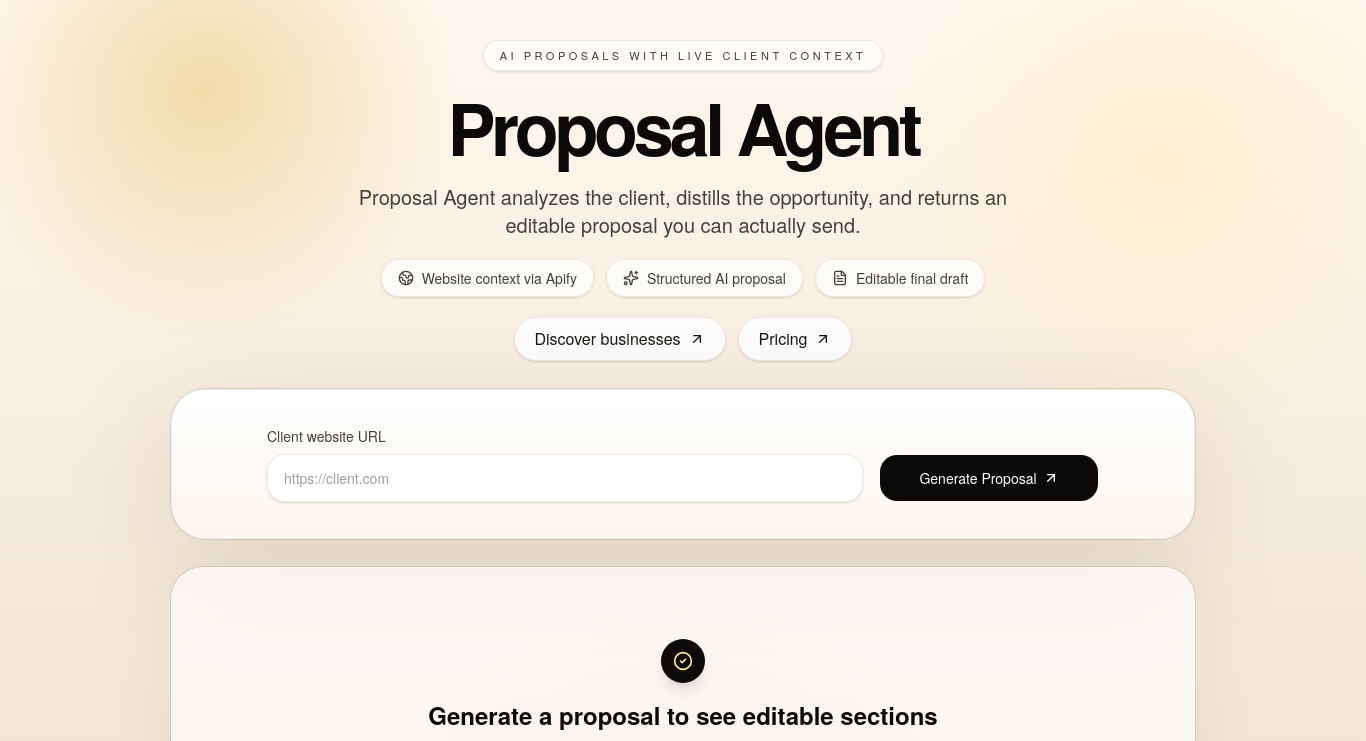
Test: ProposalAgent › shows a validation message when inputs are empty
This screenshot has width=1366, height=741.
Click the button "Generate Proposal" at (989, 478), box [879,454,1099,502]
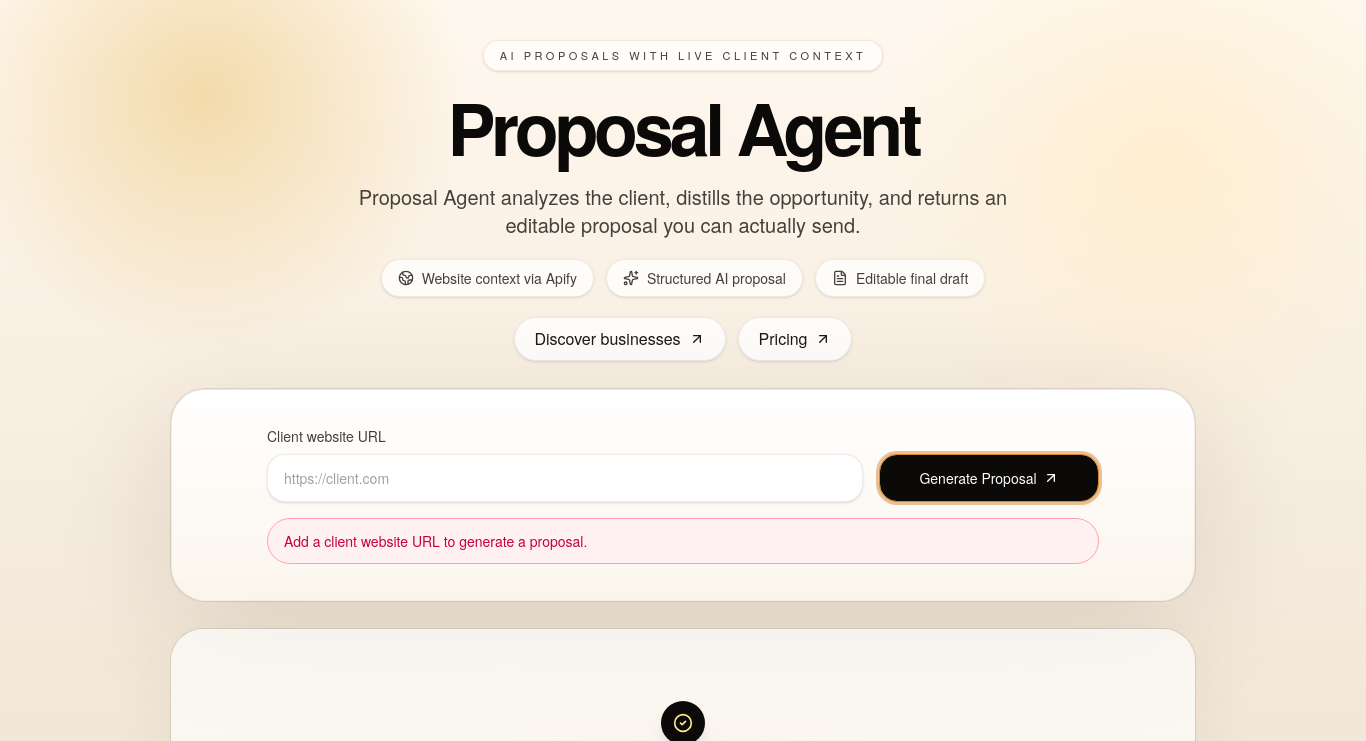
Now the text "Add a client website URL to generate a proposal." is shown, box [267,518,1099,564]
